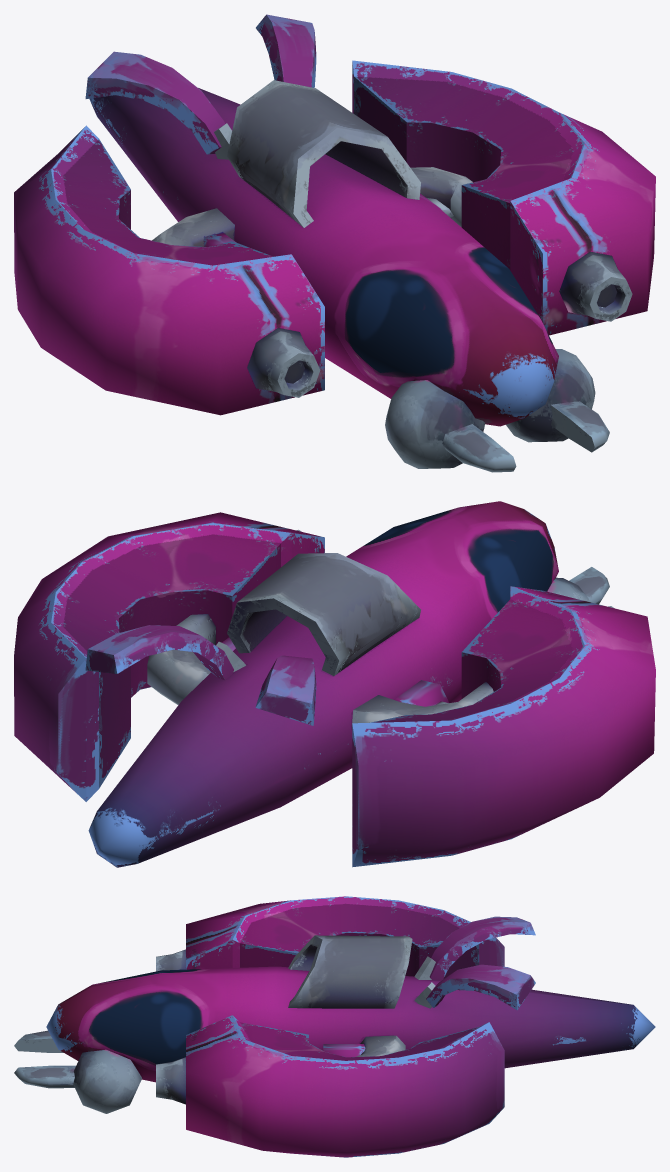
The model's file is enemy3.fbx.
3 views of the same model, one above another, from view 1: azimuth 30°, elevation 25°; view 2: azimuth 150°, elevation 25°; view 3: azimuth 270°, elevation 25° (orthographic). The views are drawn at different scales.
Parts seen in each view (by area): view 1: enemy3_body, enemy3_wing_Right, enemy3_wing_Left, enemy3_loop, enemy3_pincher_Right, enemy3_fin_Right, enemy3_pincher_Left, enemy3_knob_Right, enemy3_knob_Left, enemy3_fin_Left, enemy3_arm_Right, enemy3_arm_Left; view 2: enemy3_body, enemy3_wing_Right, enemy3_wing_Left, enemy3_loop, enemy3_fin_Left, enemy3_fin_Right, enemy3_arm_Left, enemy3_arm_Right, enemy3_pincher_Right, enemy3_cylinder_Large_Right; view 3: enemy3_wing_Left, enemy3_body, enemy3_wing_Right, enemy3_loop, enemy3_pincher_Left, enemy3_fin_Left, enemy3_fin_Right, enemy3_knob_Left, enemy3_arm_Left, enemy3_pincher_Right, enemy3_knob_Right, enemy3_cylinder_Large_Left.
Boxes of the visible parts, left/top/right/bottom form: enemy3_body: left=89, top=88, right=558, bottom=426; enemy3_wing_Right: left=14, top=125, right=324, bottom=415; enemy3_wing_Left: left=352, top=60, right=655, bottom=335; enemy3_loop: left=227, top=80, right=420, bottom=227; enemy3_pincher_Right: left=385, top=380, right=516, bottom=472; enemy3_fin_Right: left=85, top=51, right=231, bottom=159; enemy3_pincher_Left: left=506, top=349, right=609, bottom=452; enemy3_knob_Right: left=247, top=328, right=320, bottom=397; enemy3_knob_Left: left=559, top=251, right=632, bottom=321; enemy3_fin_Left: left=256, top=14, right=316, bottom=87; enemy3_arm_Right: left=152, top=208, right=234, bottom=246; enemy3_arm_Left: left=410, top=167, right=472, bottom=226; enemy3_body: left=88, top=501, right=558, bottom=867; enemy3_wing_Right: left=352, top=586, right=655, bottom=867; enemy3_wing_Left: left=14, top=512, right=324, bottom=801; enemy3_loop: left=227, top=553, right=420, bottom=675; enemy3_fin_Left: left=85, top=625, right=245, bottom=679; enemy3_fin_Right: left=255, top=655, right=316, bottom=725; enemy3_arm_Left: left=147, top=614, right=215, bottom=705; enemy3_arm_Right: left=352, top=682, right=493, bottom=728; enemy3_pincher_Right: left=547, top=567, right=609, bottom=604; enemy3_cylinder_Large_Right: left=394, top=680, right=448, bottom=706; enemy3_wing_Left: left=186, top=1015, right=504, bottom=1157; enemy3_body: left=46, top=966, right=655, bottom=1082; enemy3_wing_Right: left=186, top=896, right=504, bottom=978; enemy3_loop: left=288, top=935, right=412, bottom=1008; enemy3_pincher_Left: left=14, top=1049, right=142, bottom=1113; enemy3_fin_Left: left=414, top=964, right=535, bottom=1010; enemy3_fin_Right: left=414, top=916, right=535, bottom=980; enemy3_knob_Left: left=156, top=1057, right=185, bottom=1104; enemy3_arm_Left: left=356, top=1035, right=405, bottom=1056; enemy3_pincher_Right: left=14, top=1030, right=63, bottom=1052; enemy3_knob_Right: left=156, top=949, right=185, bottom=971; enemy3_cylinder_Large_Left: left=323, top=1044, right=365, bottom=1057.
Bounding box in the file's own units: 2.68 × 0.9905 × 3.77.
